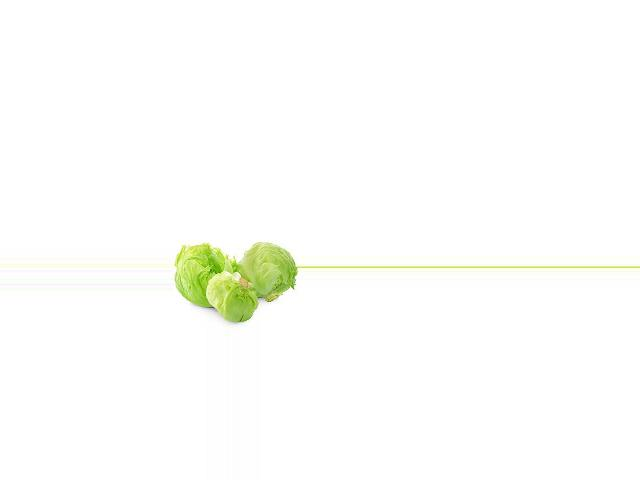lettuce: (177, 246, 229, 303)
